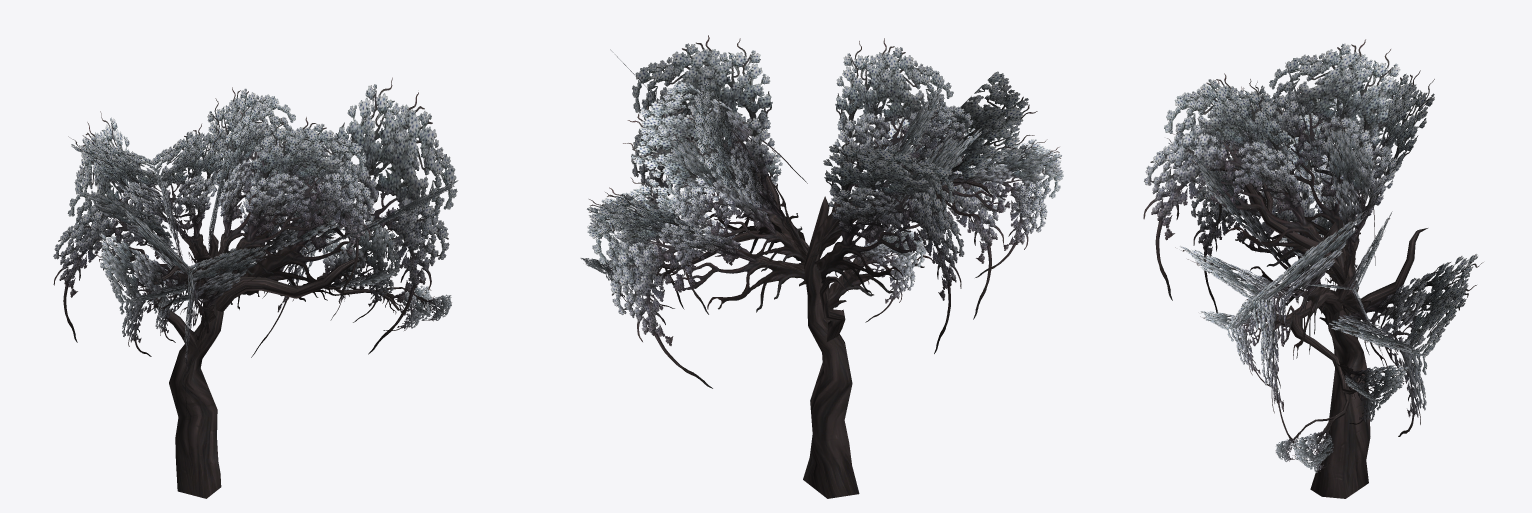
File: wintergrasp_tree_05.obj
The picture shows the model from 3 angles, left to right: view 1: azimuth 30°, elevation 25°; view 2: azimuth 150°, elevation 25°; view 3: azimuth 270°, elevation 25°; orthographic projection. The views are drawn at different scales.
Parts seen in each view (by area): view 1: Geoset1, Geoset0; view 2: Geoset1, Geoset0; view 3: Geoset1, Geoset0.
Part boxes in pixels (x1=…): Geoset1: x1=53, y1=77, x2=458, y2=416; Geoset0: x1=109, y1=231, x2=423, y2=498; Geoset1: x1=580, y1=35, x2=1063, y2=388; Geoset0: x1=634, y1=152, x2=993, y2=498; Geoset1: x1=1143, y1=39, x2=1483, y2=472; Geoset0: x1=1220, y1=167, x2=1427, y2=498.
Bounding box in the file's own units: 62.26 × 55.69 × 45.23.
Materials: 2 (2 with a texture image).
